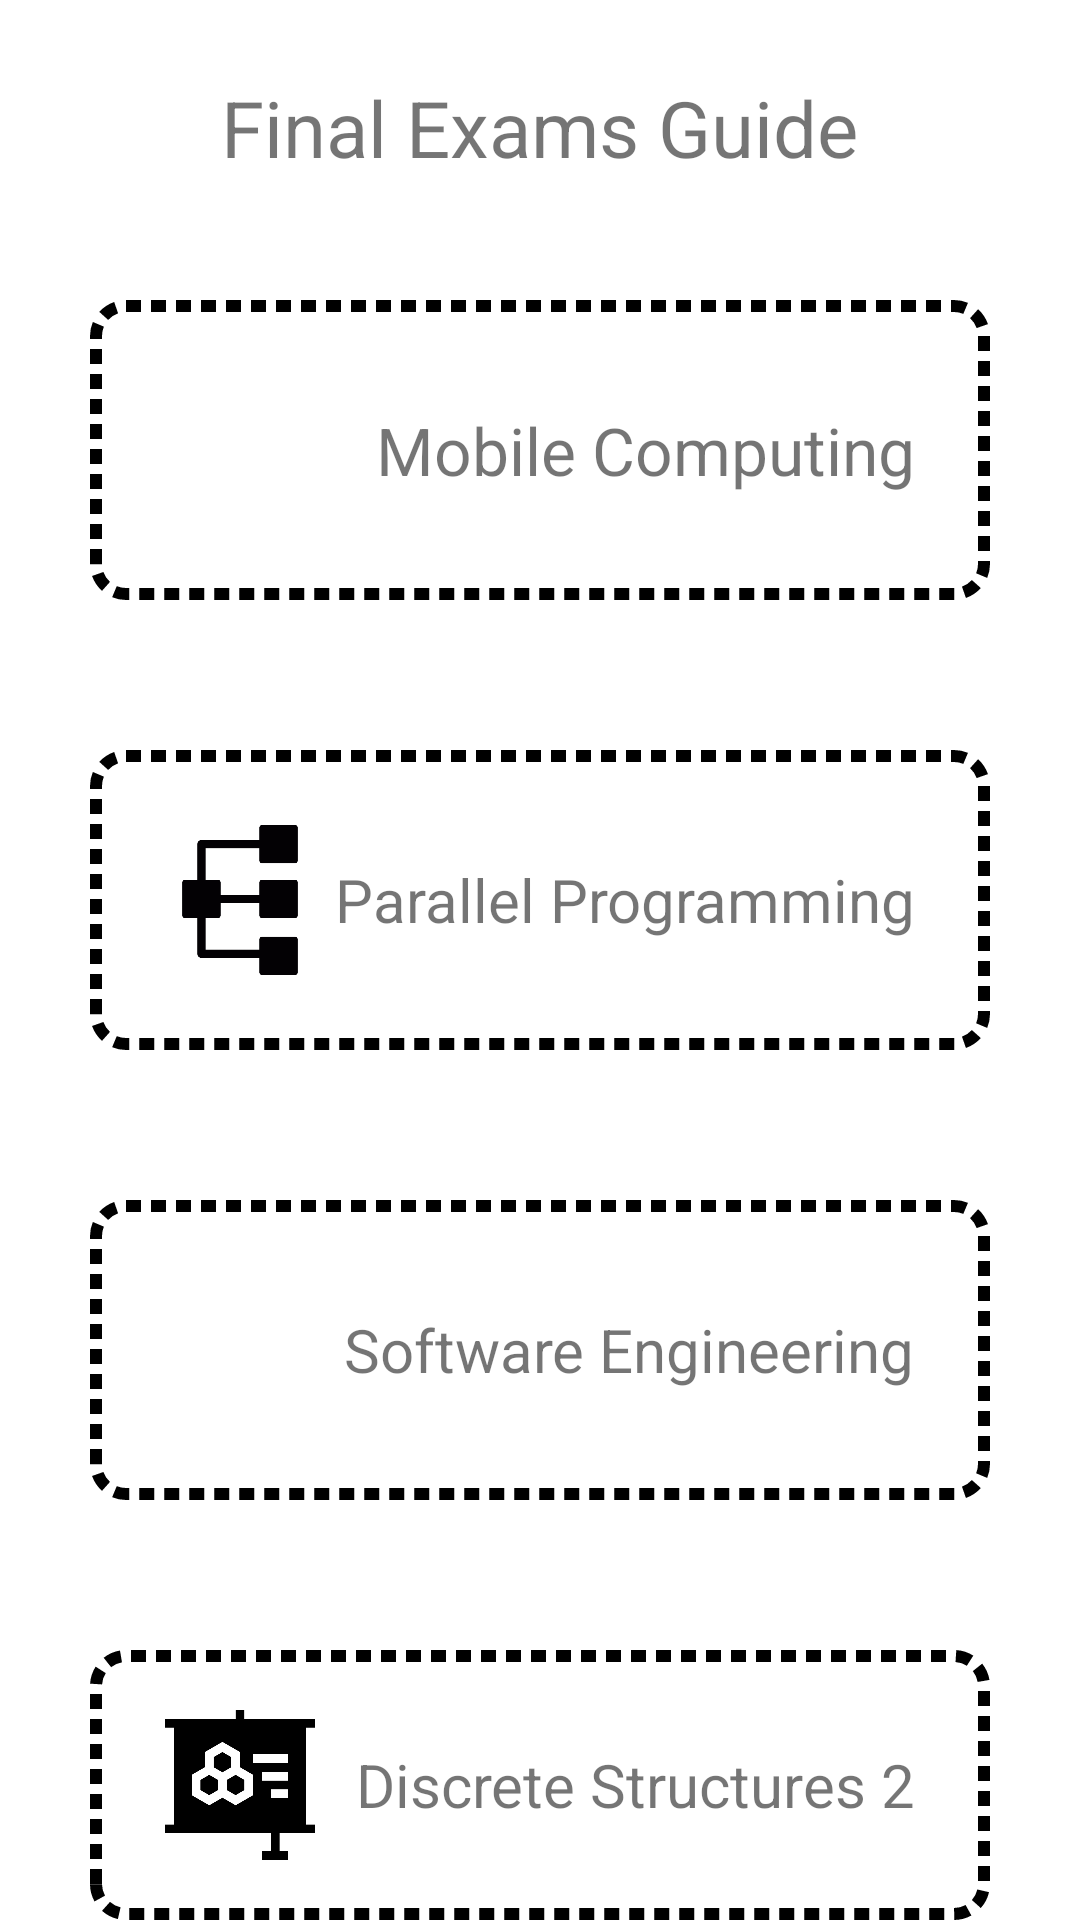

Icons on this 1080×1920 Android screen, each with its box as (x1, y1, x2, y2):
parallel tasks: (182, 825, 298, 975)
theory: (165, 1710, 315, 1860)
